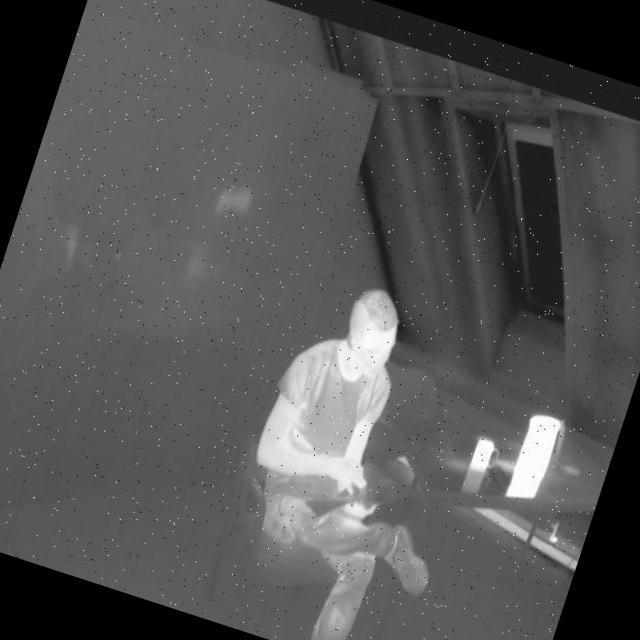person: (198, 270, 511, 640)
